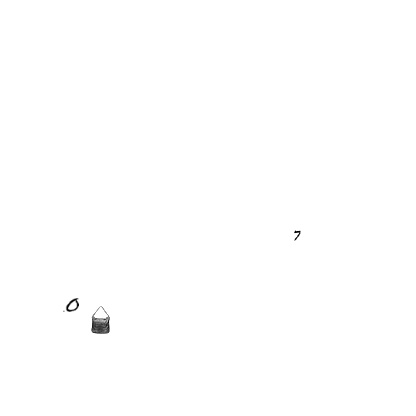0: (61, 294, 83, 316)
7: (290, 227, 304, 241)
Bag: (86, 306, 114, 334)
